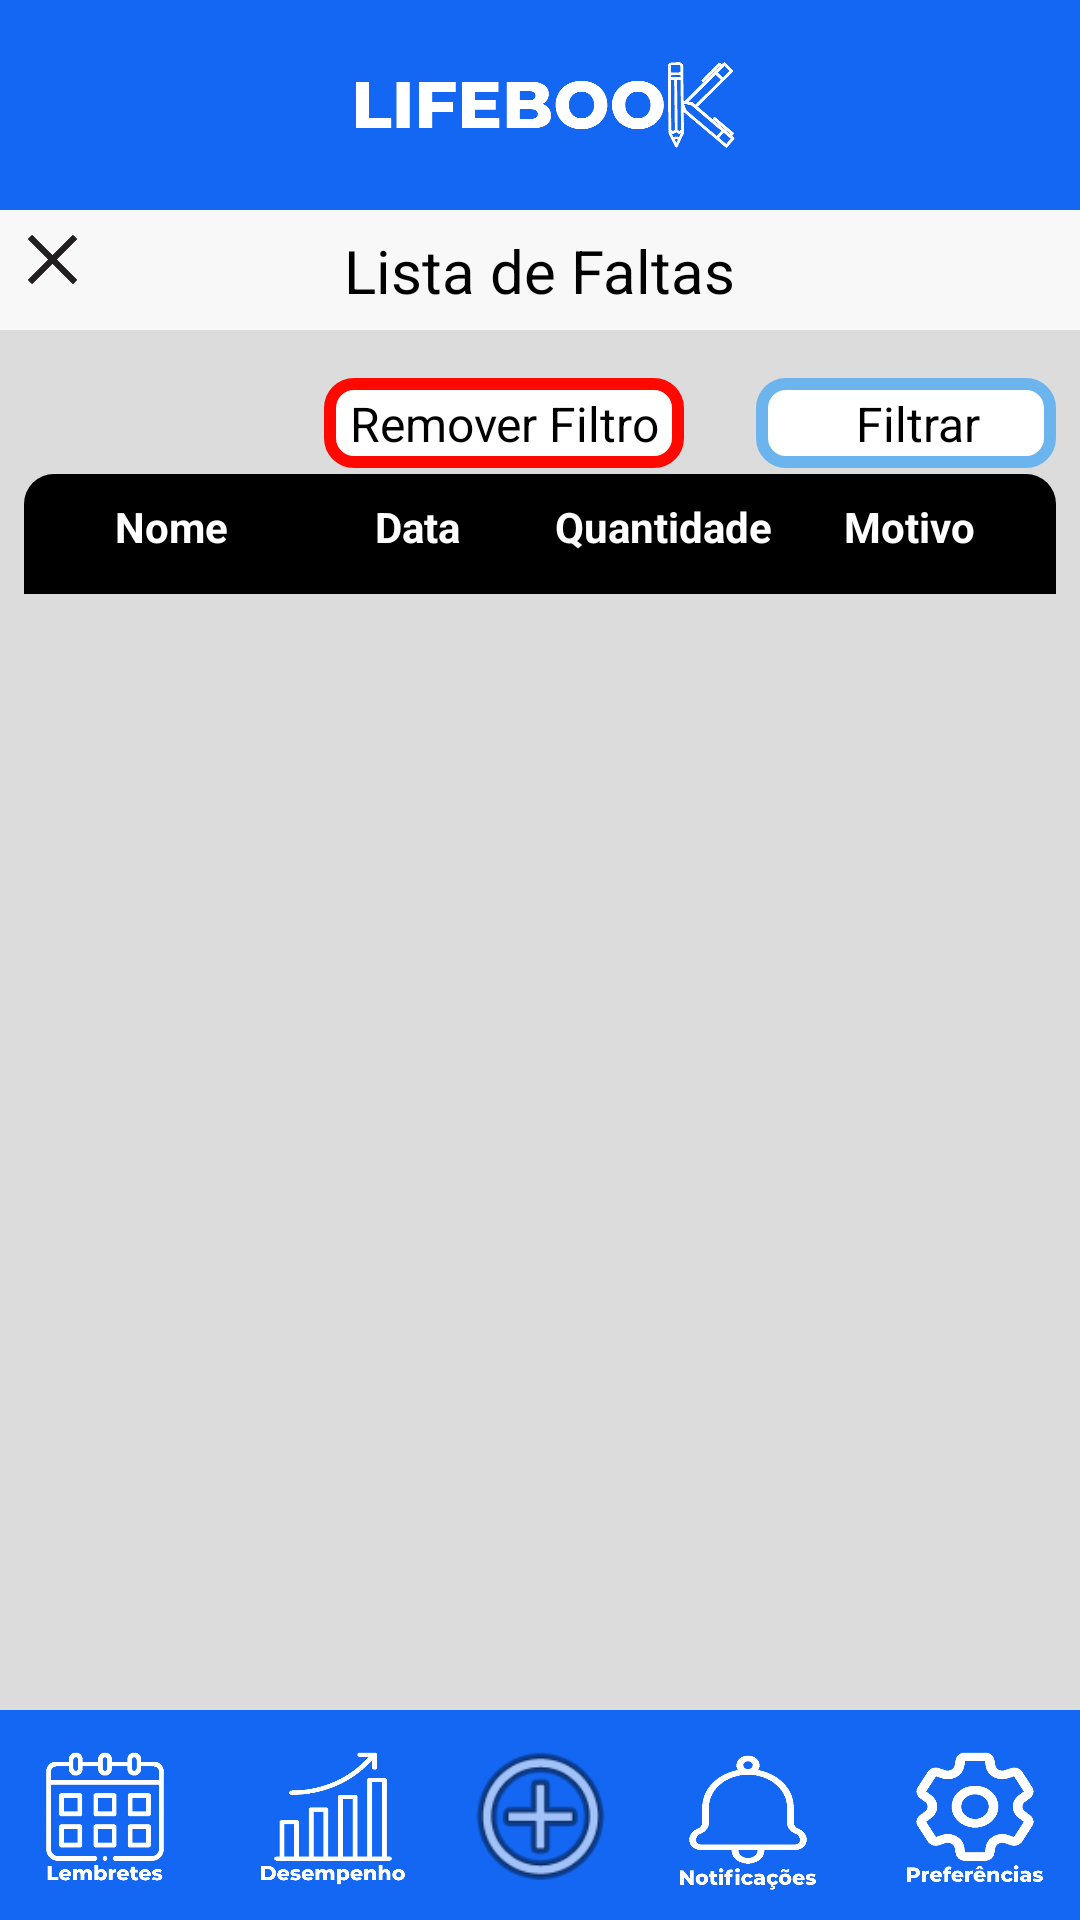

Named icons in this screenshot (1080 x 1920) and their bounding boxes, (x1, y1, x2, y2):
add: (477, 1753, 604, 1880)
close: (28, 235, 77, 284)
